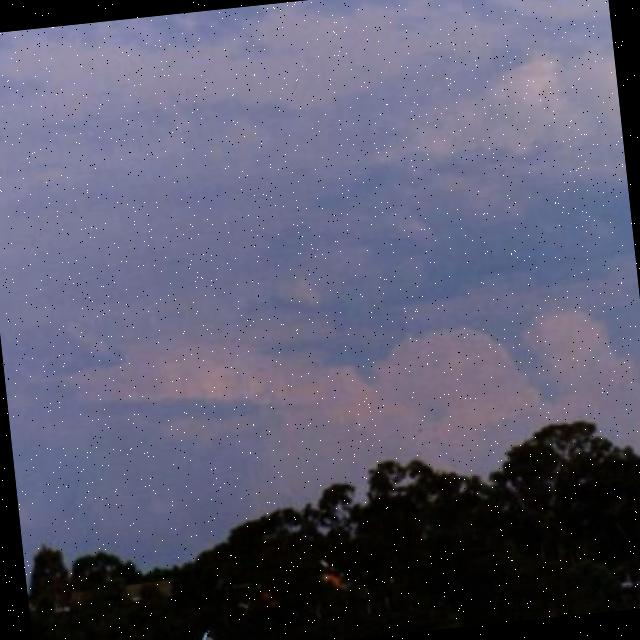Cs: (1, 71, 640, 473)
